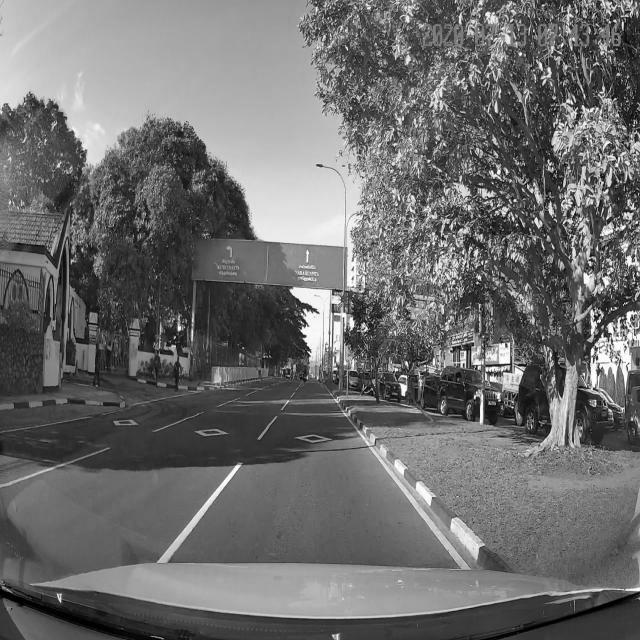diamond: (256, 432, 372, 448)
